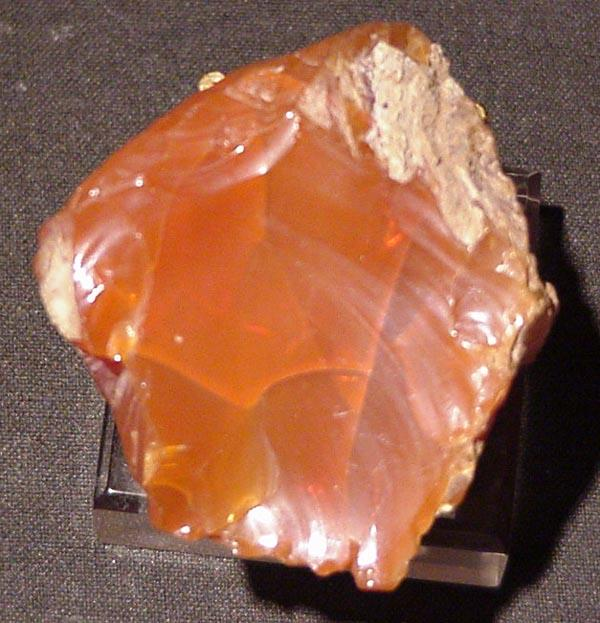opal: (34, 22, 559, 592), (34, 24, 555, 592), (34, 23, 545, 590)
